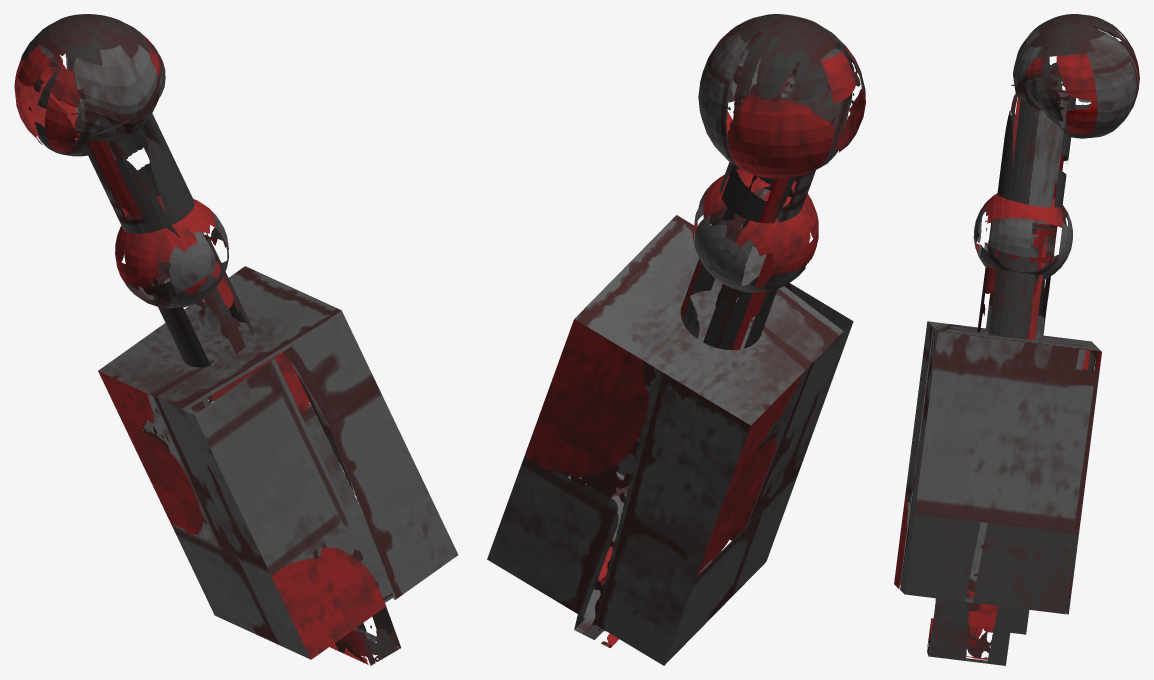
File: Left_arm.obj
3 renders of one model, left to right at view 1: azimuth 30°, elevation 25°; view 2: azimuth 150°, elevation 25°; view 3: azimuth 270°, elevation 25°, orthographic. The views are drawn at different scales.
Visible parts, largest first — view 1: 右腕power_円柱.010; view 2: 右腕power_円柱.010; view 3: 右腕power_円柱.010.
Boxes of the visible parts, <box> form: 右腕power_円柱.010: <box>14,14,458,665</box>; 右腕power_円柱.010: <box>487,14,865,665</box>; 右腕power_円柱.010: <box>894,14,1139,665</box>.
Size of the model in its own units: 20.42 by 37.11 by 14.83.
1 material, 1 textured.
